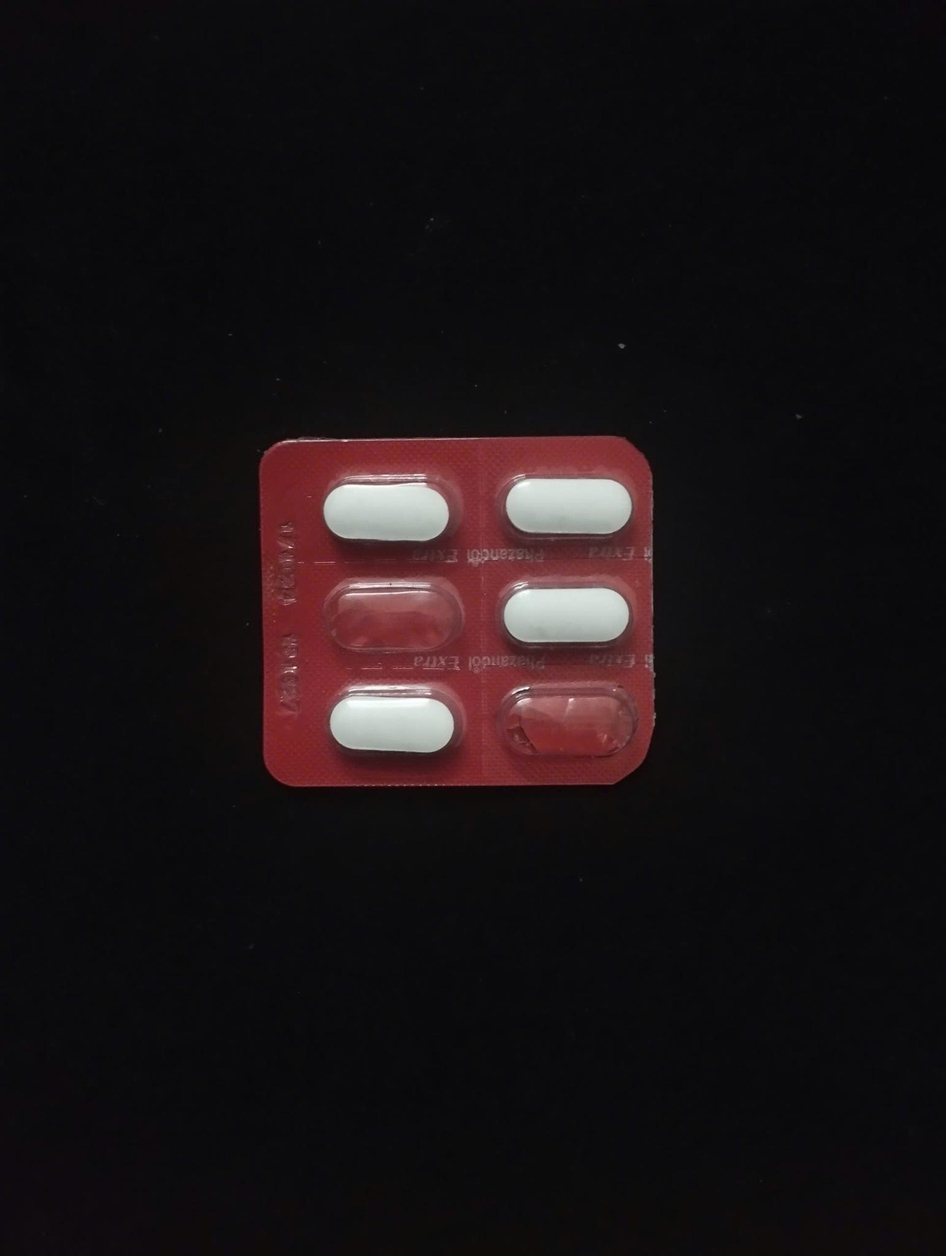Empty: (501, 683, 654, 771), (321, 584, 463, 657)
Full: (321, 685, 465, 773), (319, 467, 453, 559), (498, 584, 648, 659), (503, 474, 640, 543)
